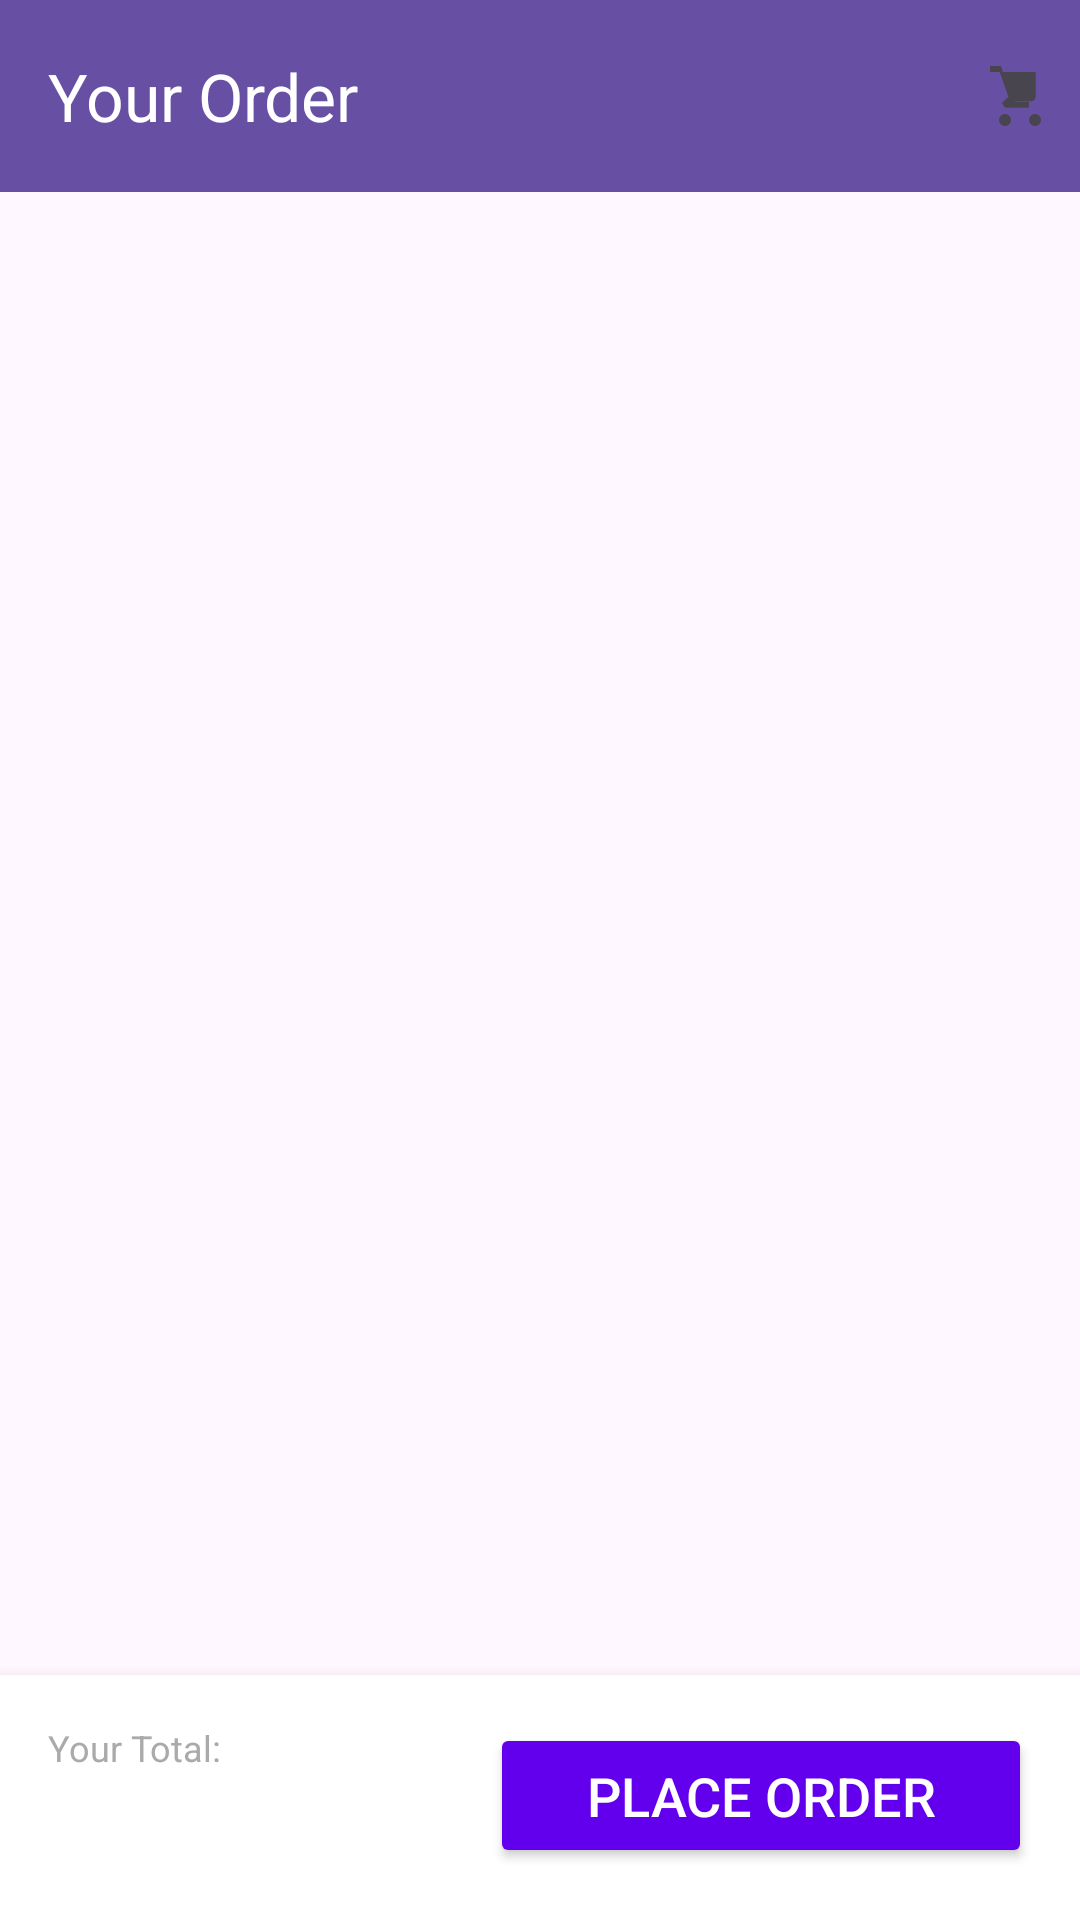

Icon click points for this 1080w x 1920h phone screenshot, format (x,y):
Cart: (1015,96)
